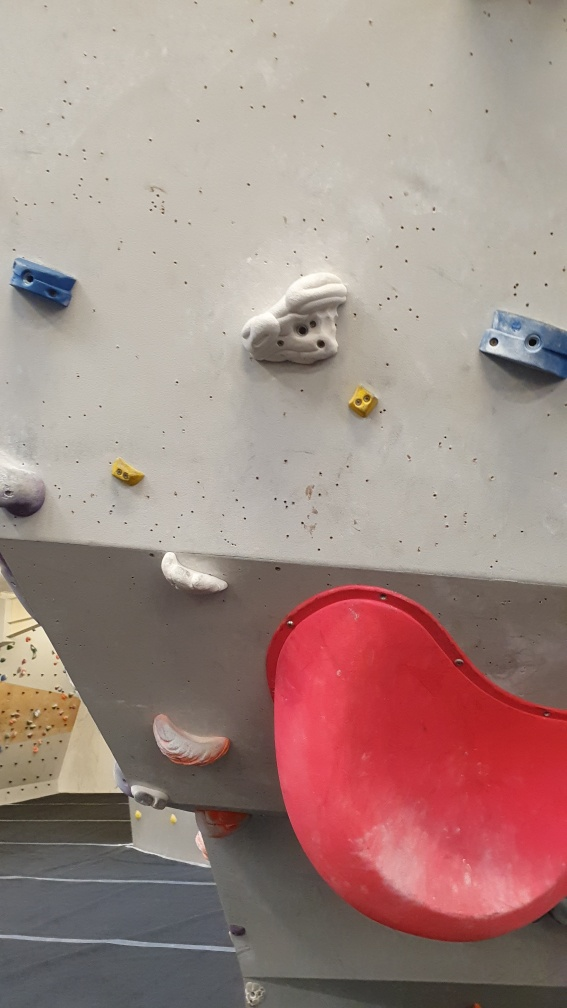Crimp: (108, 453, 150, 491)
Jug: (236, 270, 349, 369), (147, 710, 235, 767), (159, 548, 234, 598)
Pinch: (476, 303, 567, 378), (9, 253, 81, 311), (347, 382, 381, 422)
